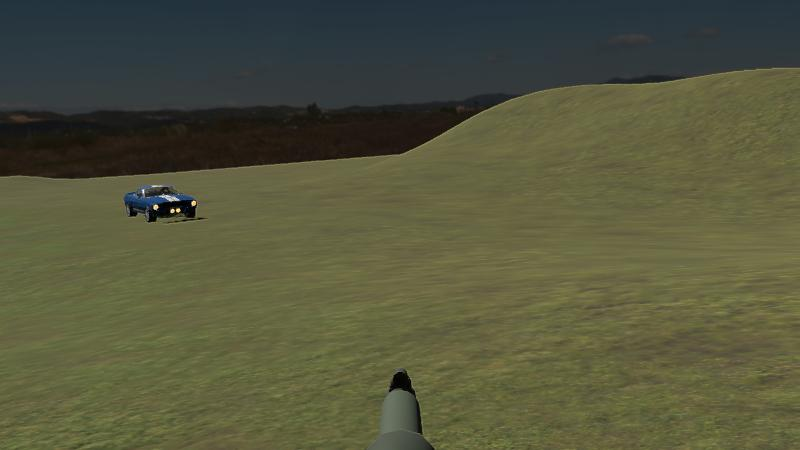car: (123, 183, 198, 223)
